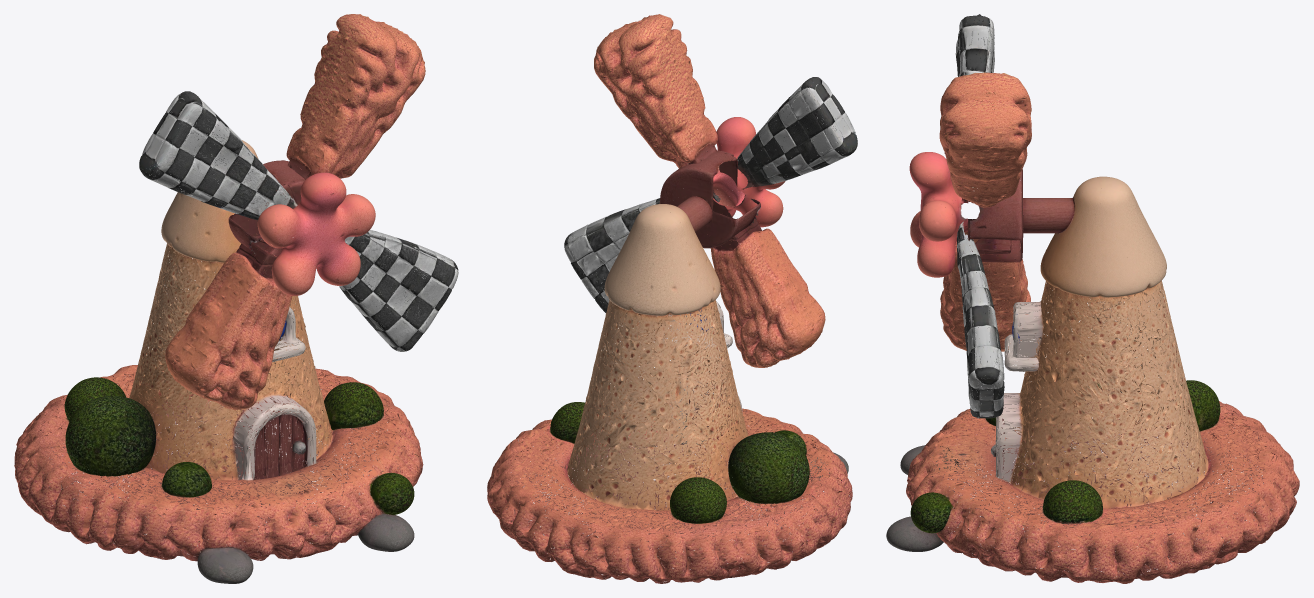
File: windmill.glb
3 views of the same model, side by side, from view 1: azimuth 30°, elevation 25°; view 2: azimuth 150°, elevation 25°; view 3: azimuth 270°, elevation 25° (orthographic). The views are drawn at different scales.
Visible parts, largest first — view 1: tripo_part_0, tripo_part_1, tripo_part_3, tripo_part_2, tripo_part_4, tripo_part_9, tripo_part_10, tripo_part_11, tripo_part_12, tripo_part_6, tripo_part_5; view 2: tripo_part_0, tripo_part_1, tripo_part_4, tripo_part_2, tripo_part_6, tripo_part_3, tripo_part_5, tripo_part_10, tripo_part_13; view 3: tripo_part_0, tripo_part_1, tripo_part_4, tripo_part_3, tripo_part_6, tripo_part_9, tripo_part_10, tripo_part_13, tripo_part_5.
Boxes of the visible parts, left/top/right/bottom form: tripo_part_0: left=14, top=243, right=423, bottom=561; tripo_part_1: left=139, top=14, right=458, bottom=410; tripo_part_3: left=257, top=172, right=375, bottom=295; tripo_part_2: left=65, top=395, right=155, bottom=476; tripo_part_4: left=161, top=140, right=258, bottom=262; tripo_part_9: left=358, top=472, right=414, bottom=551; tripo_part_10: left=322, top=382, right=383, bottom=429; tripo_part_11: left=197, top=548, right=253, bottom=583; tripo_part_12: left=162, top=462, right=212, bottom=497; tripo_part_6: left=228, top=160, right=308, bottom=259; tripo_part_5: left=64, top=377, right=125, bottom=421; tripo_part_0: left=487, top=300, right=852, bottom=583; tripo_part_1: left=564, top=14, right=857, bottom=367; tripo_part_4: left=604, top=204, right=720, bottom=315; tripo_part_2: left=728, top=432, right=809, bottom=504; tripo_part_6: left=659, top=152, right=760, bottom=248; tripo_part_3: left=713, top=117, right=785, bottom=227; tripo_part_5: left=670, top=477, right=726, bottom=523; tripo_part_10: left=550, top=402, right=595, bottom=443; tripo_part_13: left=677, top=196, right=712, bottom=232; tripo_part_0: left=906, top=280, right=1299, bottom=583; tripo_part_1: left=939, top=14, right=1031, bottom=418; tripo_part_4: left=1040, top=176, right=1166, bottom=297; tripo_part_3: left=909, top=152, right=968, bottom=277; tripo_part_6: left=967, top=169, right=1023, bottom=262; tripo_part_9: left=886, top=492, right=952, bottom=551; tripo_part_10: left=1043, top=480, right=1103, bottom=524; tripo_part_13: left=1023, top=198, right=1074, bottom=233; tripo_part_5: left=1160, top=380, right=1220, bottom=431.
Size of the model in its own units: 0.9452 by 1.24 by 0.974.
14 materials, 14 textured.
